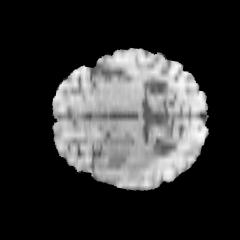glioma: (94, 135, 162, 183)
